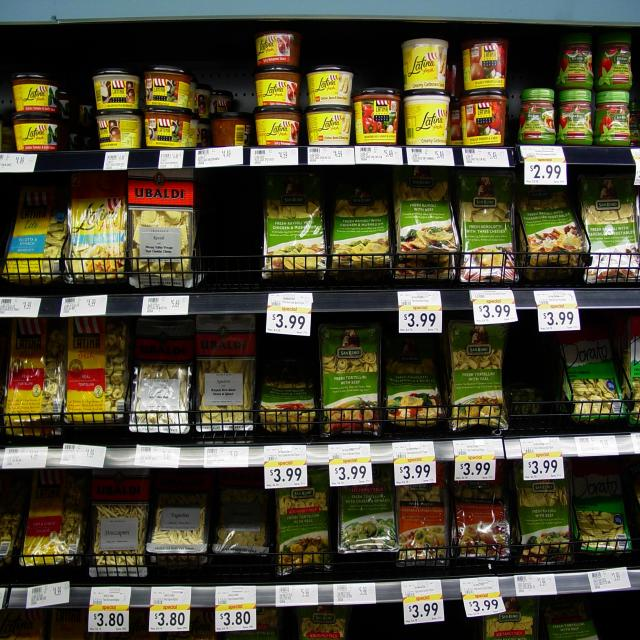empty_space: (208, 183, 258, 281), (518, 339, 562, 409)
